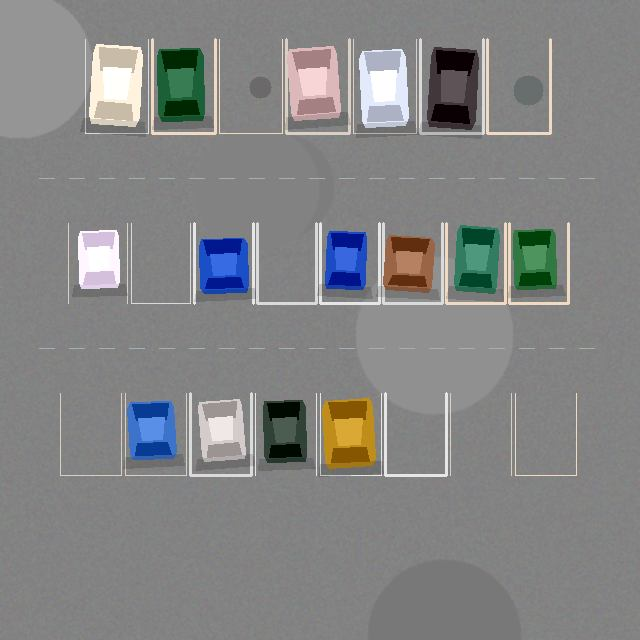space-empty: (219, 39, 282, 133), (487, 39, 550, 133), (60, 393, 121, 475), (385, 393, 446, 475), (450, 393, 511, 475), (515, 393, 576, 475), (131, 223, 190, 303), (257, 223, 316, 303)
space-occupied: (85, 39, 148, 133), (152, 39, 215, 133), (286, 39, 349, 133), (353, 39, 416, 133), (420, 39, 483, 133), (125, 393, 186, 475), (190, 393, 251, 475), (255, 393, 316, 475), (320, 393, 381, 475), (68, 223, 127, 303), (194, 223, 253, 303), (320, 223, 379, 303), (383, 223, 442, 303), (446, 223, 505, 303), (509, 223, 568, 303)
